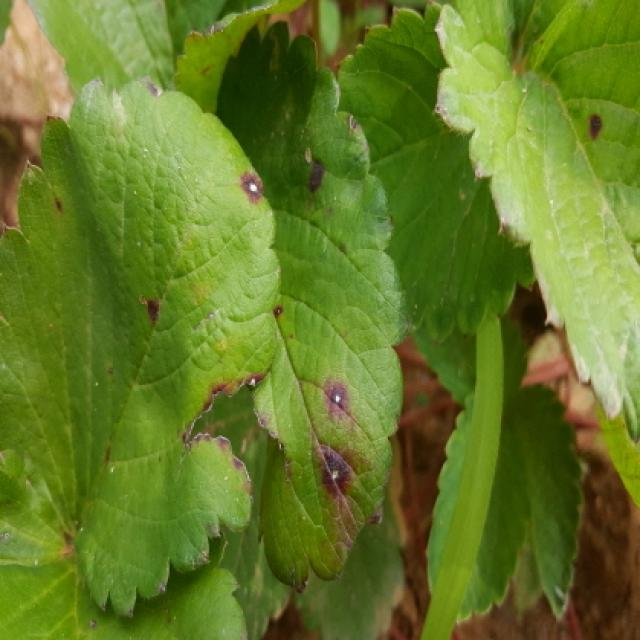Leaf Spot: (2, 74, 284, 622), (213, 21, 410, 594), (434, 0, 640, 446)
